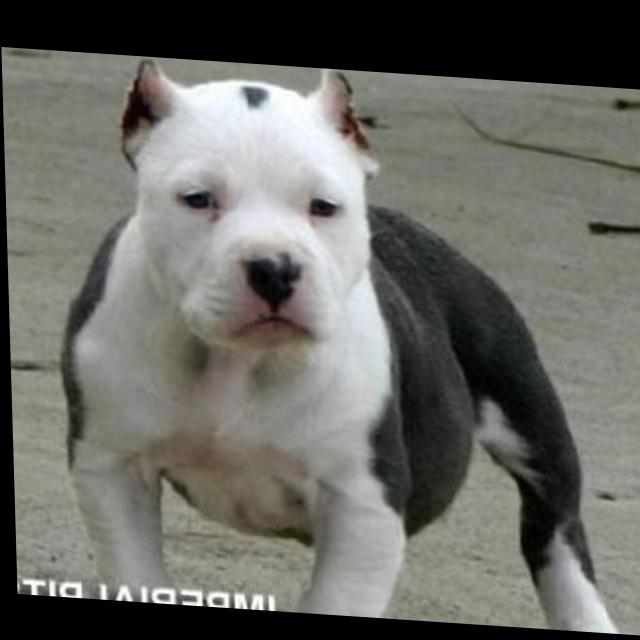amstaff: (51, 50, 640, 627)
